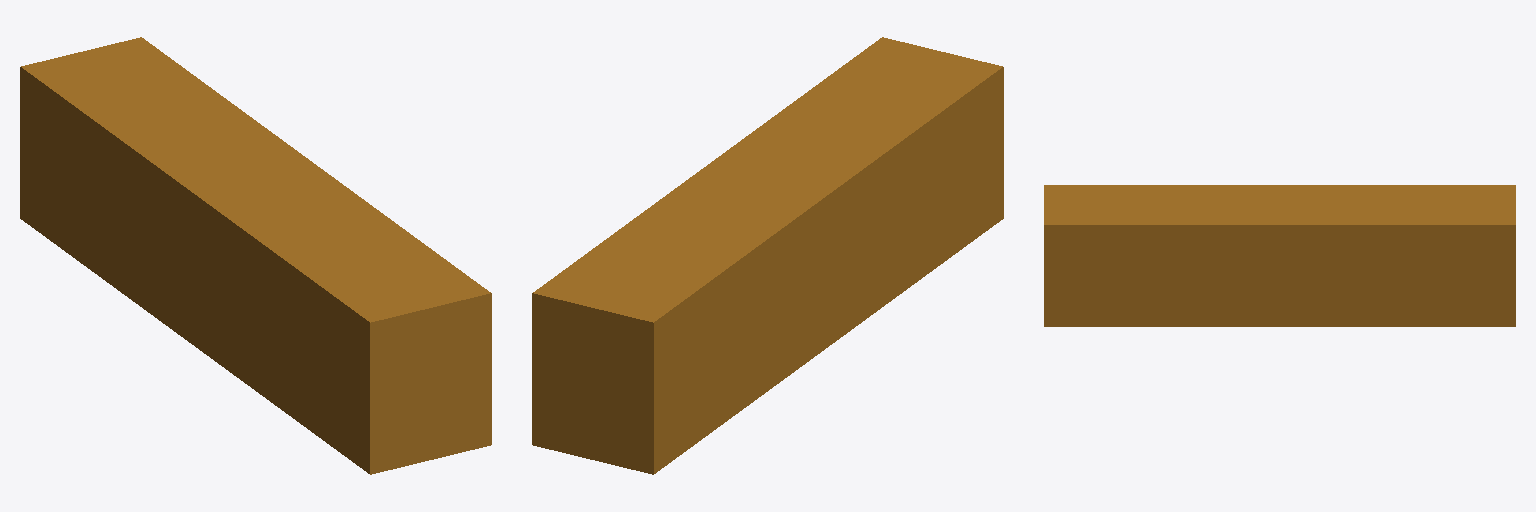
URDF robot description (potato):
<?xml version="1.0"?>
<robot name="potato">
  <link name="link0">
  <contact>
      <lateral_friction value="1"/>
  </contact>
    <inertial>
      <origin xyz="0 0 0" rpy="0 0 0" />
      <mass value="2.5" />
      <inertia ixx="1" ixy="0" ixz="0" iyy="1" iyz="0" izz="1" />
    </inertial>
    <visual>
      <origin xyz="0 0 0" rpy="0 0 0" />
      <geometry>
        <!--<box size="0.035 0.35 0.035" />  Leek -->
        <box size="0.05 0.25 0.06" />  <!-- Cucumber -->
        <!--<cylinder radius="0.25" length="0.06"/>--> <!-- Cucumber Need to rotate! (make new urdf-->
        <!--<box size="0.06 0.16 0.035" /> Banana-->
      </geometry>
      <material name="brown">
        <color rgba="0.7 0.5 0.2 1.0" />
      </material>
    </visual>
    <collision>
      <origin xyz="0 0 0" rpy="0 0 0" />
      <geometry>
        <box size="0.05 0.25 0.06" />
      </geometry>
    </collision>
  </link>
</robot>

--- What the picture shows (computed from the rendered views, not written in the file) ---
3 views of the same robot in one strip: view 1: azimuth 30°, elevation 25°; view 2: azimuth 150°, elevation 25°; view 3: azimuth 270°, elevation 25° (orthographic).
Robot: potato — 1 links, 0 joints (none); root link link0; default pose: all joints at 0.
Links seen in each view (by area): view 1: link0; view 2: link0; view 3: link0.
Link boxes in pixels (x1=…): link0: x1=20, y1=37, x2=491, y2=474; link0: x1=532, y1=37, x2=1003, y2=474; link0: x1=1044, y1=185, x2=1515, y2=326.
Bounding box of the posed robot: 0.05 × 0.25 × 0.06 m (x, y, z).
Geometry: primitives only (box / cylinder / sphere), no mesh files.
